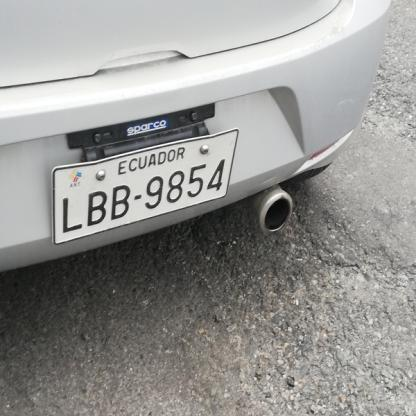Placa: (50, 124, 233, 242)
